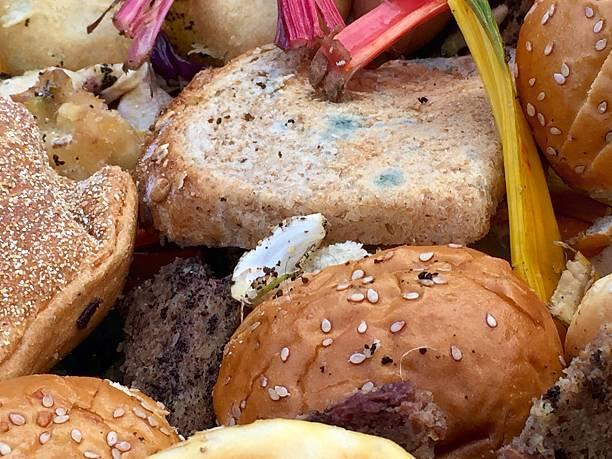organic: (214, 238, 569, 455), (143, 44, 502, 248), (395, 0, 609, 310), (98, 2, 488, 101), (0, 162, 136, 385), (115, 259, 243, 435), (0, 373, 185, 459), (232, 212, 372, 311)
